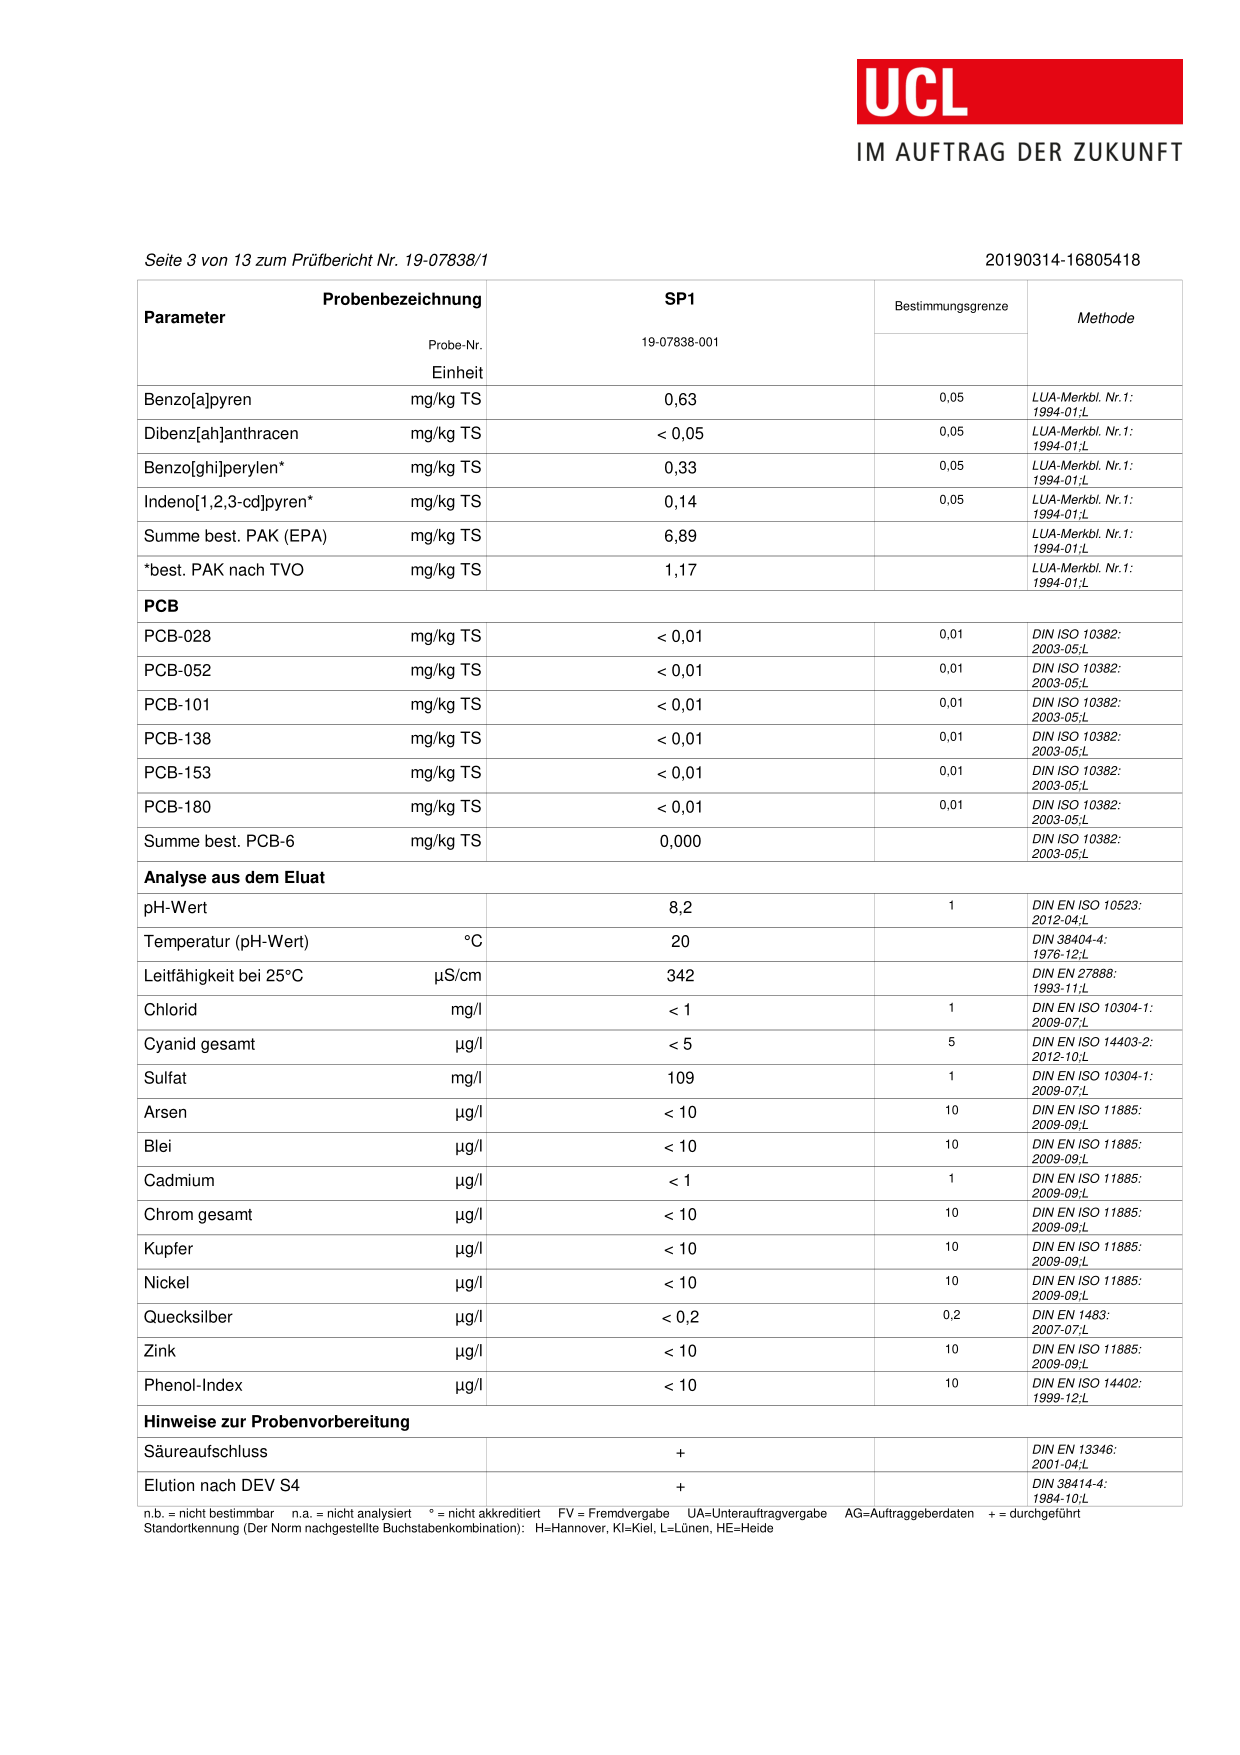table: (113, 894, 1188, 1395), (134, 623, 1194, 853), (127, 378, 1184, 596), (129, 1434, 1201, 1508)
